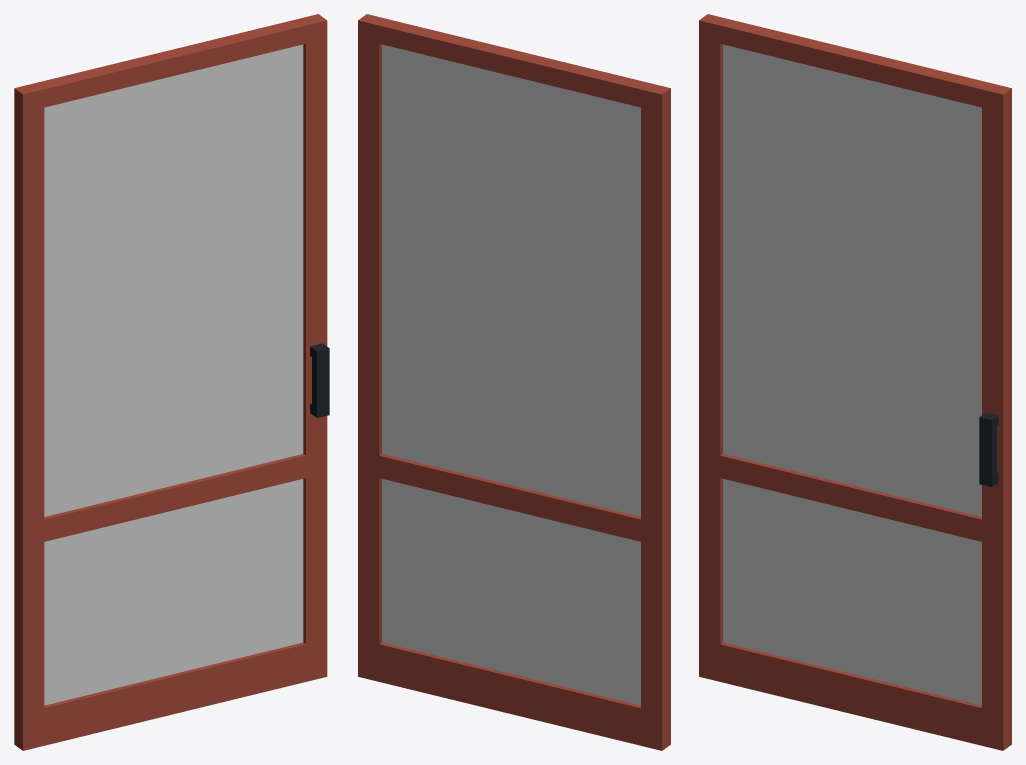
File: SmallHouse_02_Door01.fbx
3 renders of one model, left to right at view 1: azimuth 30°, elevation 25°; view 2: azimuth 150°, elevation 25°; view 3: azimuth 330°, elevation 25°, orthographic.
Visible parts, largest first — view 1: SmallHouse_02_Door01; view 2: SmallHouse_02_Door01; view 3: SmallHouse_02_Door01.
Boxes of the visible parts, box(x1,y1,x2,y2) form: SmallHouse_02_Door01: box(14, 14, 329, 750); SmallHouse_02_Door01: box(358, 14, 670, 750); SmallHouse_02_Door01: box(699, 14, 1011, 750).
Size of the model in its own units: 100 by 206 by 8.91.
